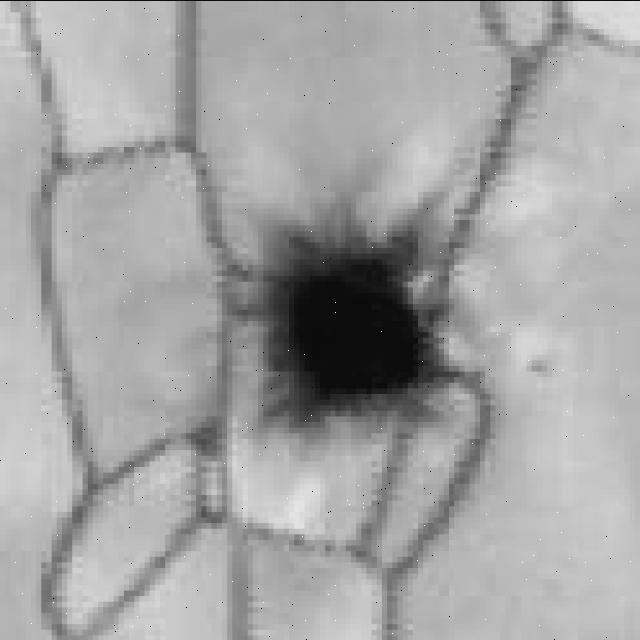good_void: (227, 228, 467, 435)
